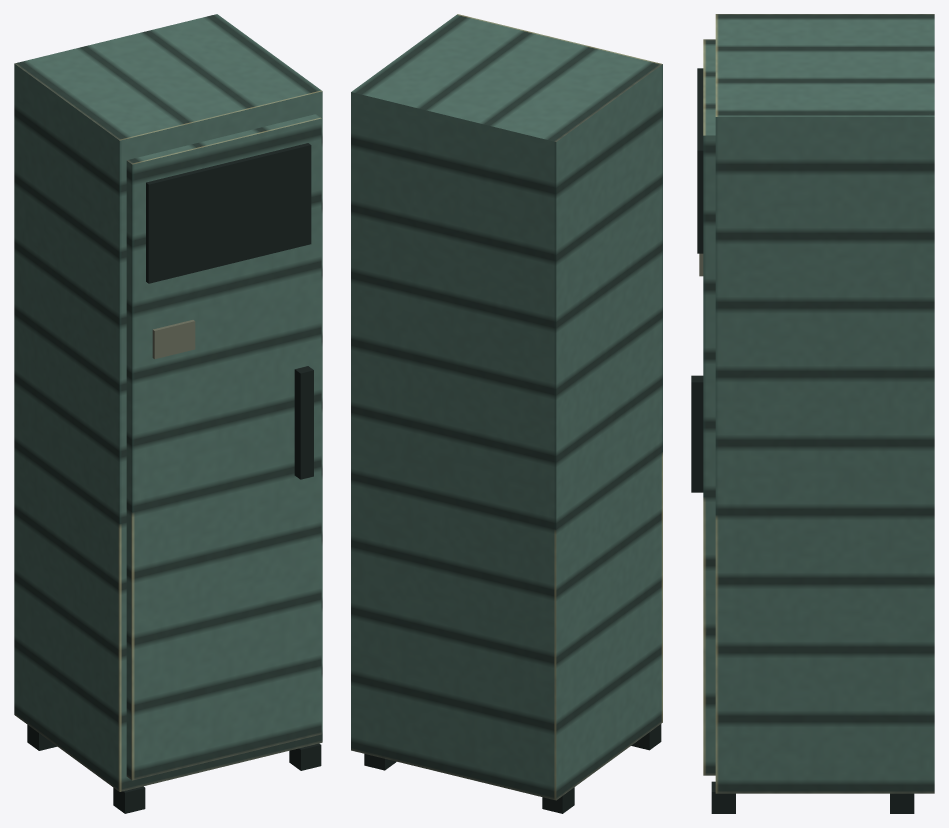
File: SM_LabProp_Locker_Dorm_60x60x190.fbx
3 views of the same model, side by side, from view 1: azimuth 30°, elevation 25°; view 2: azimuth 150°, elevation 25°; view 3: azimuth 270°, elevation 25° (orthographic). The views are drawn at different scales.
Visible parts, largest first — view 1: SM_LabProp_Locker_Dorm_60x60x190.001; view 2: SM_LabProp_Locker_Dorm_60x60x190.001; view 3: SM_LabProp_Locker_Dorm_60x60x190.001.
Boxes of the visible parts, bbox=[...] form: SM_LabProp_Locker_Dorm_60x60x190.001: bbox=[14, 14, 322, 813]; SM_LabProp_Locker_Dorm_60x60x190.001: bbox=[351, 14, 662, 813]; SM_LabProp_Locker_Dorm_60x60x190.001: bbox=[691, 14, 934, 813].
Bounding box in the file's own units: 0.6 × 1.9 × 0.6.
